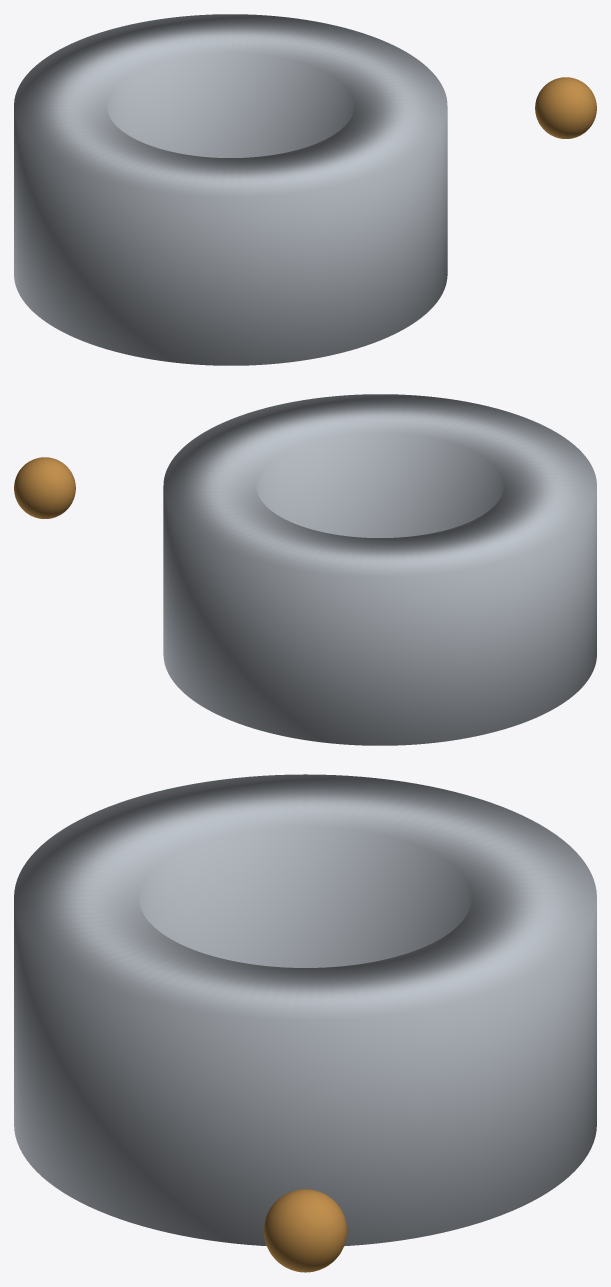
File: large-before.glb
The picture shows the model from 3 angles, top to bottom: view 1: azimuth 30°, elevation 25°; view 2: azimuth 150°, elevation 25°; view 3: azimuth 270°, elevation 25°; orthographic projection. The views are drawn at different scales.
Visible parts, largest first — view 1: bushing, preserved; view 2: bushing, preserved; view 3: bushing, preserved.
Part boxes in pixels (bbox=[...]): bushing: bbox=[14, 14, 447, 365]; preserved: bbox=[535, 77, 596, 138]; bushing: bbox=[163, 394, 596, 745]; preserved: bbox=[14, 457, 75, 518]; bushing: bbox=[14, 774, 596, 1245]; preserved: bbox=[264, 1189, 346, 1272].
Bounding box in the file's own units: 0.082 × 0.024 × 0.056.
